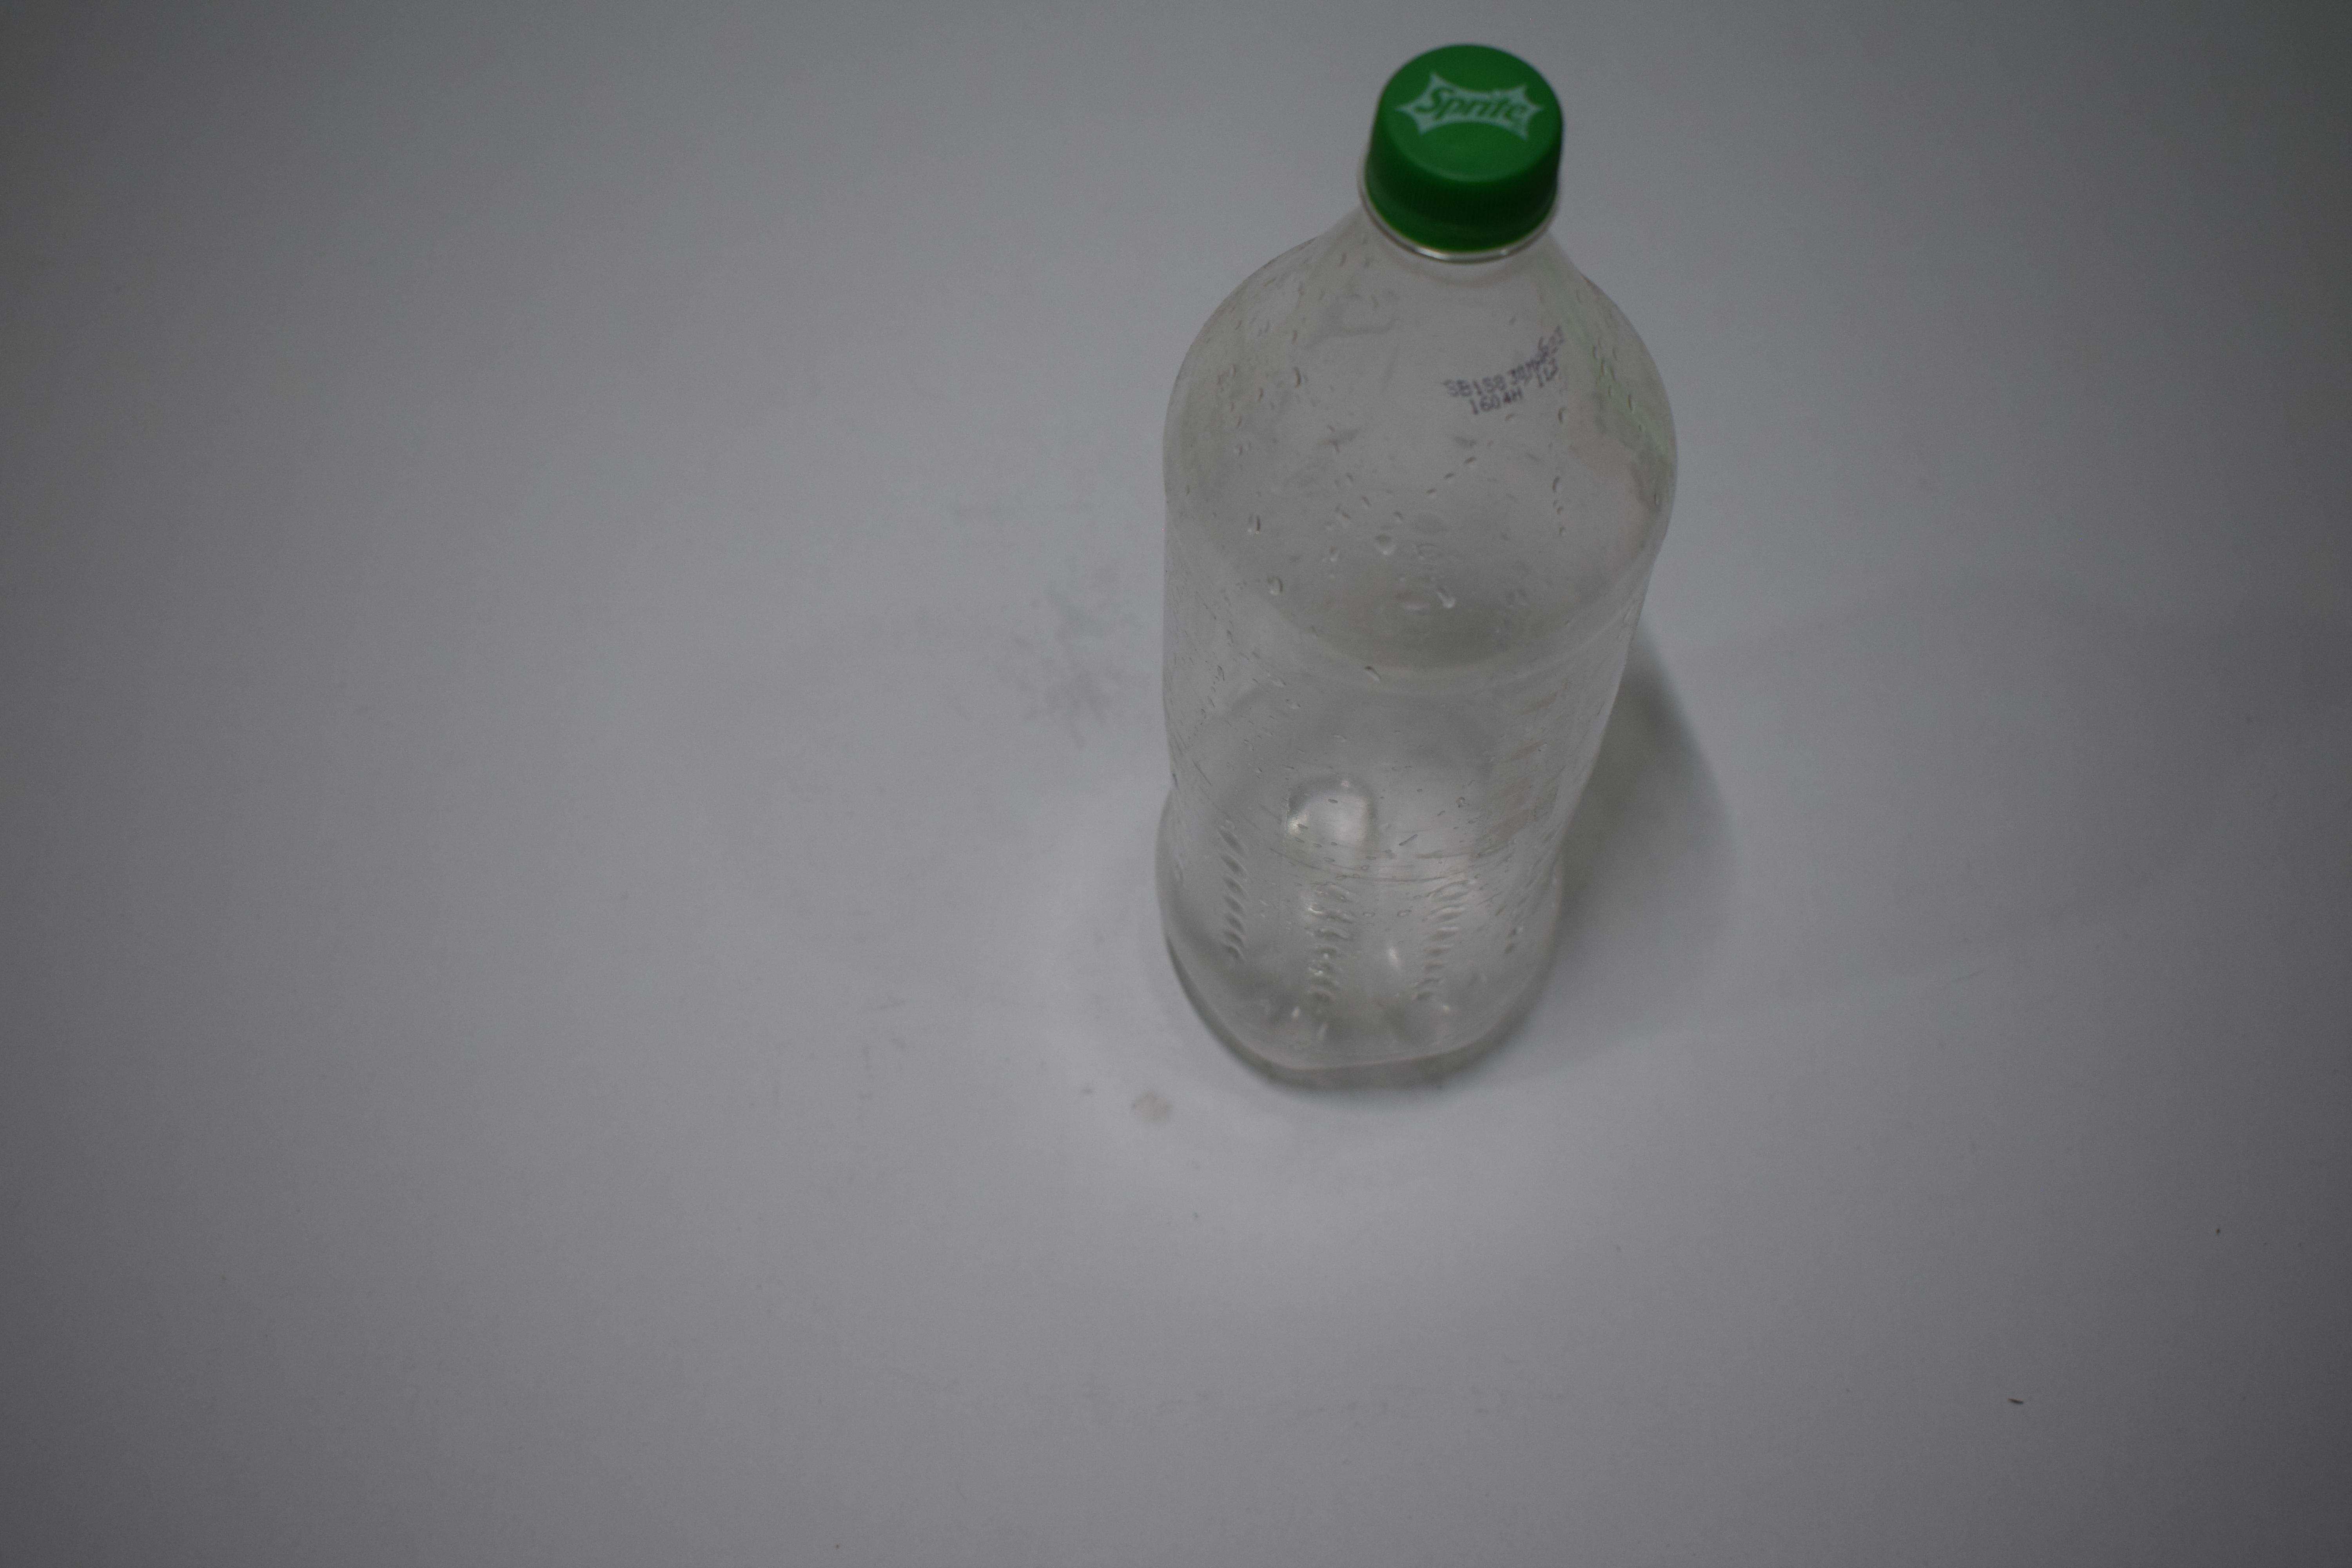bottle: (1148, 0, 1685, 1012)
